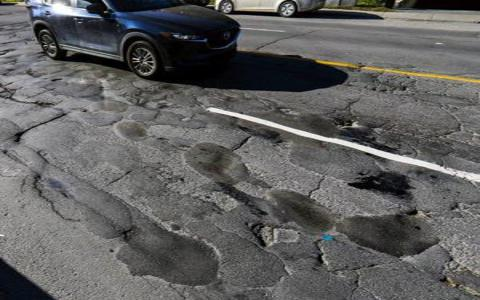patchy roads: (228, 119, 467, 285), (17, 88, 217, 285)
